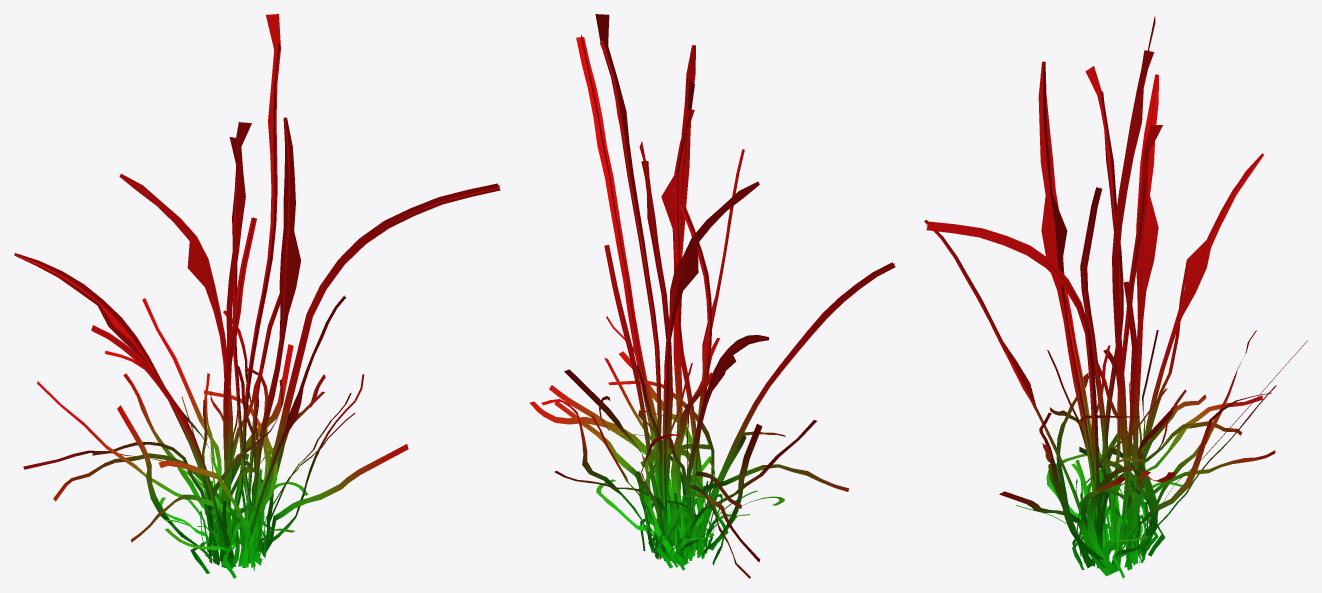
The model's file is smdrailr_Var4_LOD0.fbx.
The picture shows the model from 3 angles, left to right: view 1: azimuth 30°, elevation 25°; view 2: azimuth 150°, elevation 25°; view 3: azimuth 270°, elevation 25°; orthographic projection. The views are drawn at different scales.
Parts seen in each view (by area): view 1: _e48e_Var4_LOD0; view 2: _e48e_Var4_LOD0; view 3: _e48e_Var4_LOD0.
Boxes of the visible parts, bbox=[...] form: _e48e_Var4_LOD0: bbox=[14, 14, 500, 578]; _e48e_Var4_LOD0: bbox=[529, 14, 895, 578]; _e48e_Var4_LOD0: bbox=[924, 16, 1307, 578].
Size of the model in its own units: 56.99 by 79.8 by 47.92.
